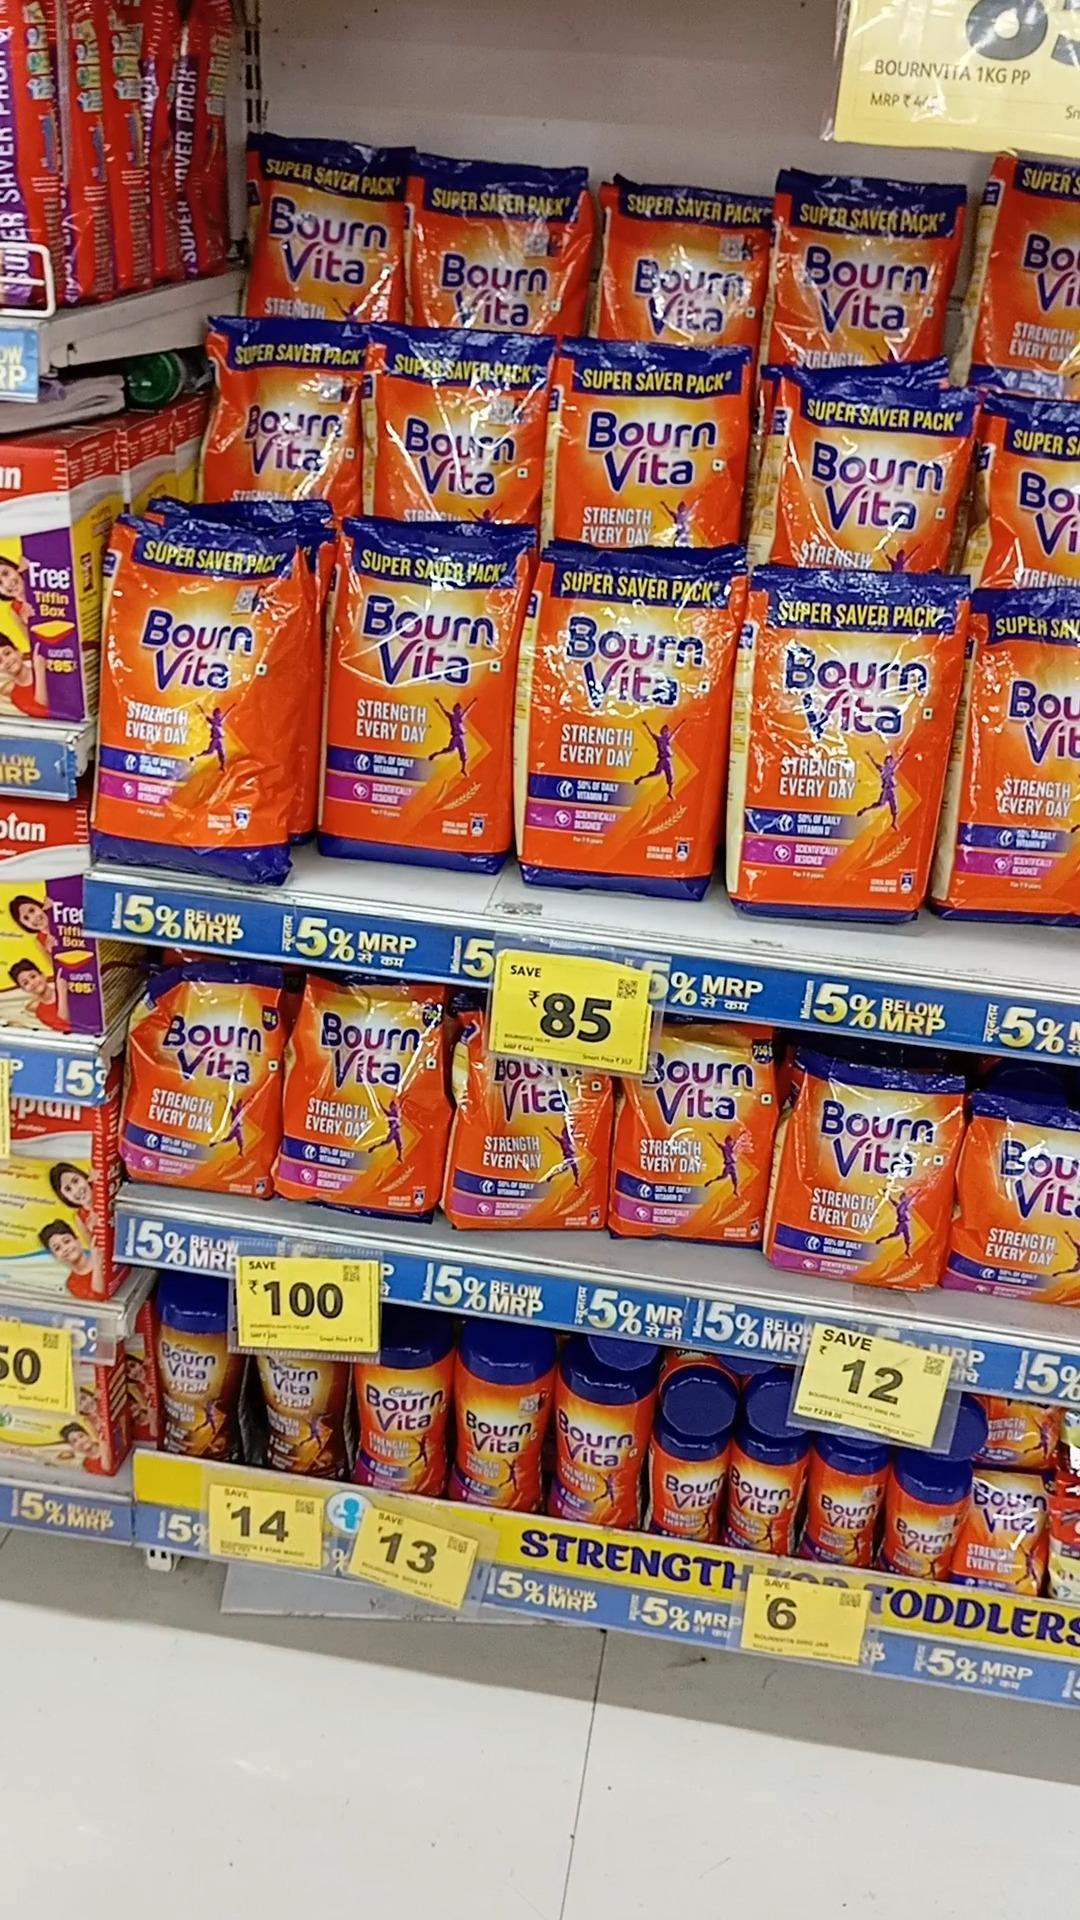BOURN_VITA_1_KG_POUCH: (96, 522, 293, 889), (728, 567, 924, 919), (513, 549, 707, 893), (323, 522, 498, 864), (945, 589, 1080, 910), (556, 342, 741, 535), (777, 371, 956, 559), (365, 331, 543, 513), (767, 171, 944, 352), (415, 150, 575, 324), (210, 316, 356, 505), (245, 128, 394, 309), (605, 179, 762, 342)
BOURN_VITA_200_G_JAR: (649, 1396, 729, 1540)
BOURN_VITA_500_G_JAR: (454, 1338, 546, 1510), (555, 1364, 641, 1524), (355, 1358, 450, 1494)
BOURN_VITA_500_G_POUCH: (774, 1051, 938, 1284), (957, 1089, 1080, 1305)
BOURN_VITA_750_G_POUCH: (287, 973, 436, 1224), (129, 967, 274, 1197), (448, 1050, 604, 1228), (616, 1075, 761, 1245)
BOURN_VITA_FIVE_STAR_MAGIC_500_G_JAR: (156, 1302, 240, 1457), (257, 1352, 348, 1481)
